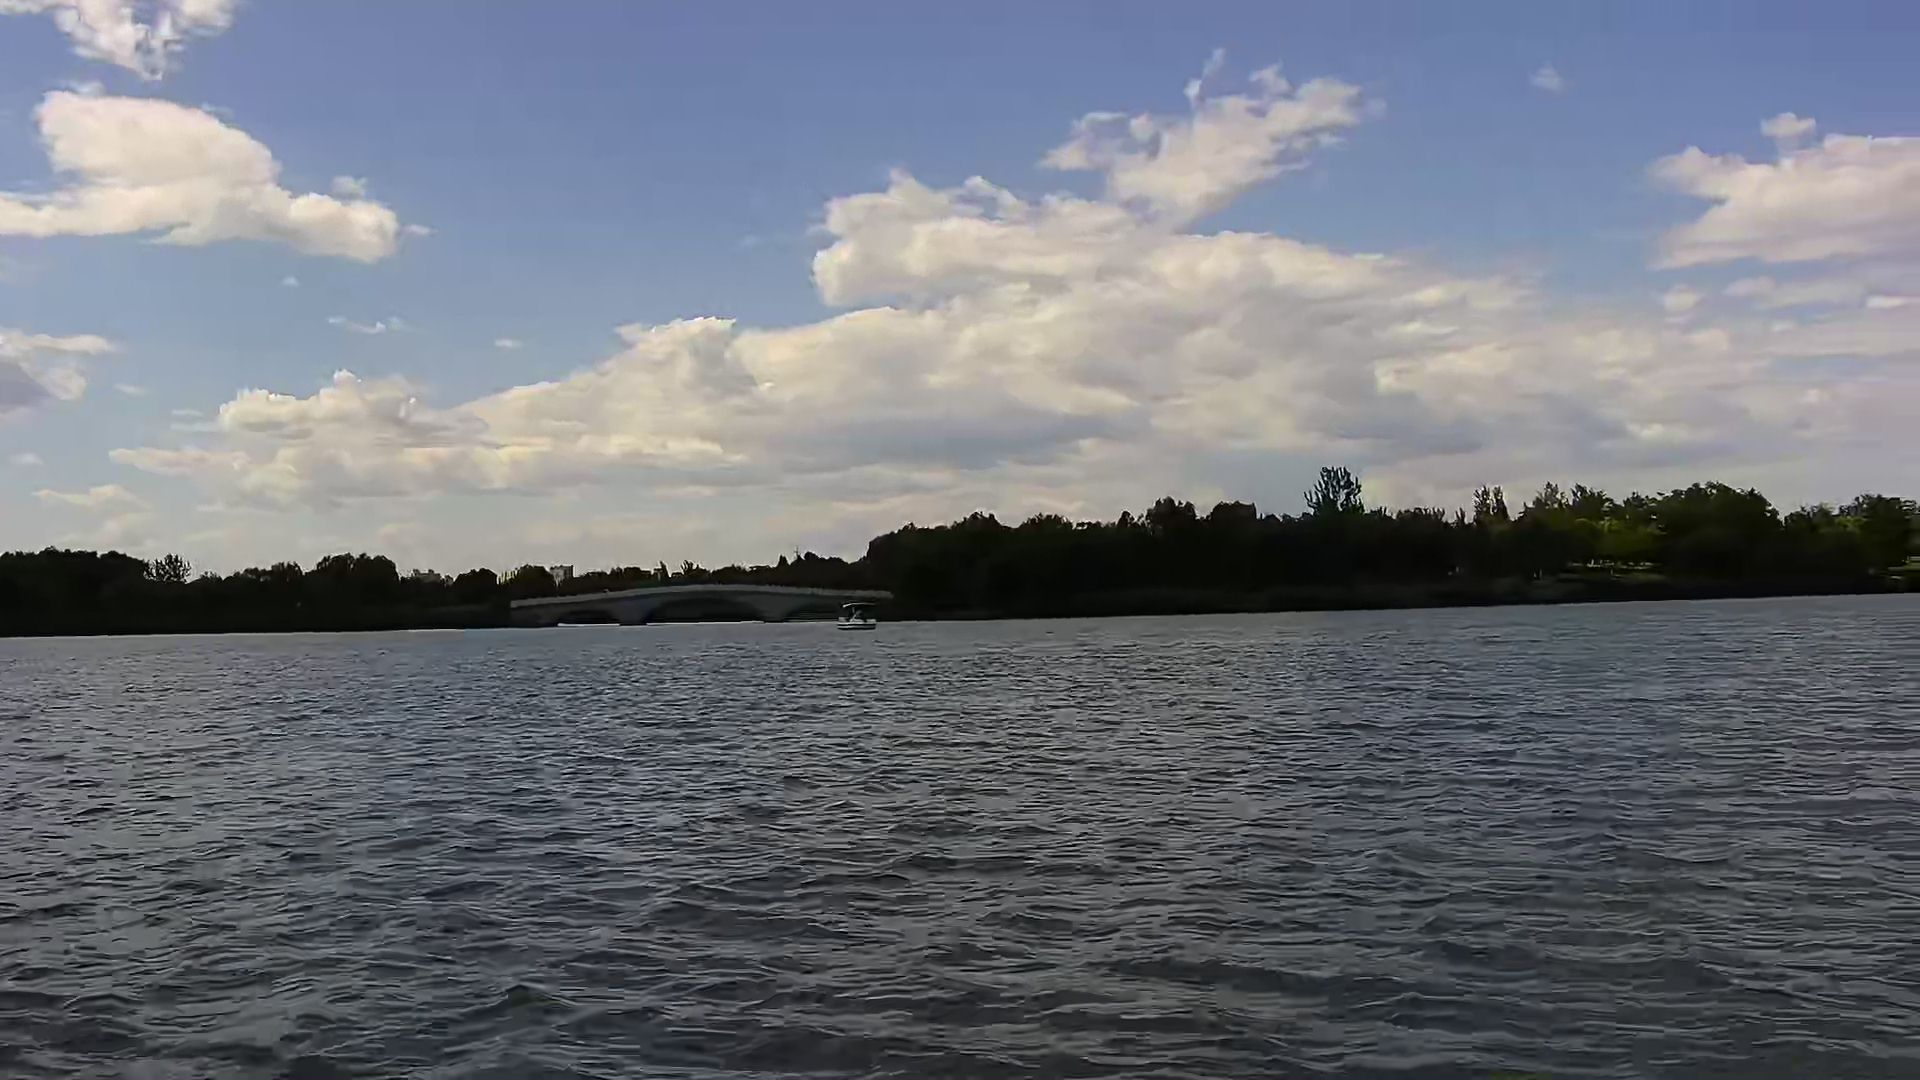boat: (839, 597, 876, 626)
bridge: (506, 583, 884, 625)
